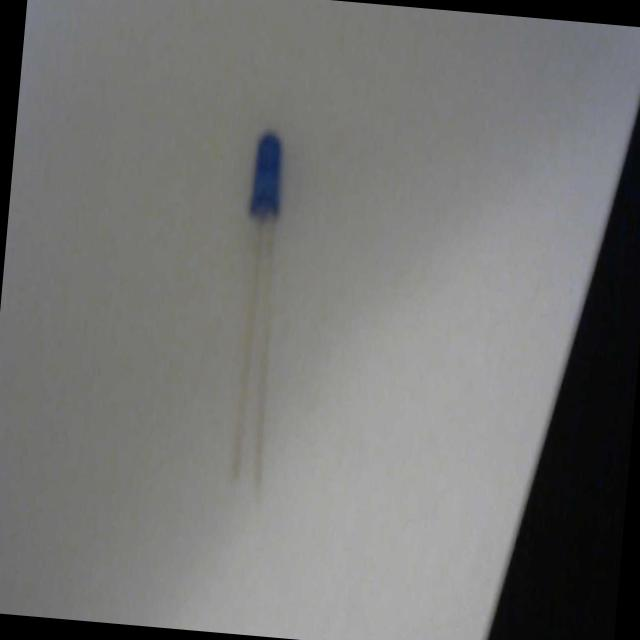blue_led: (248, 129, 286, 219)
